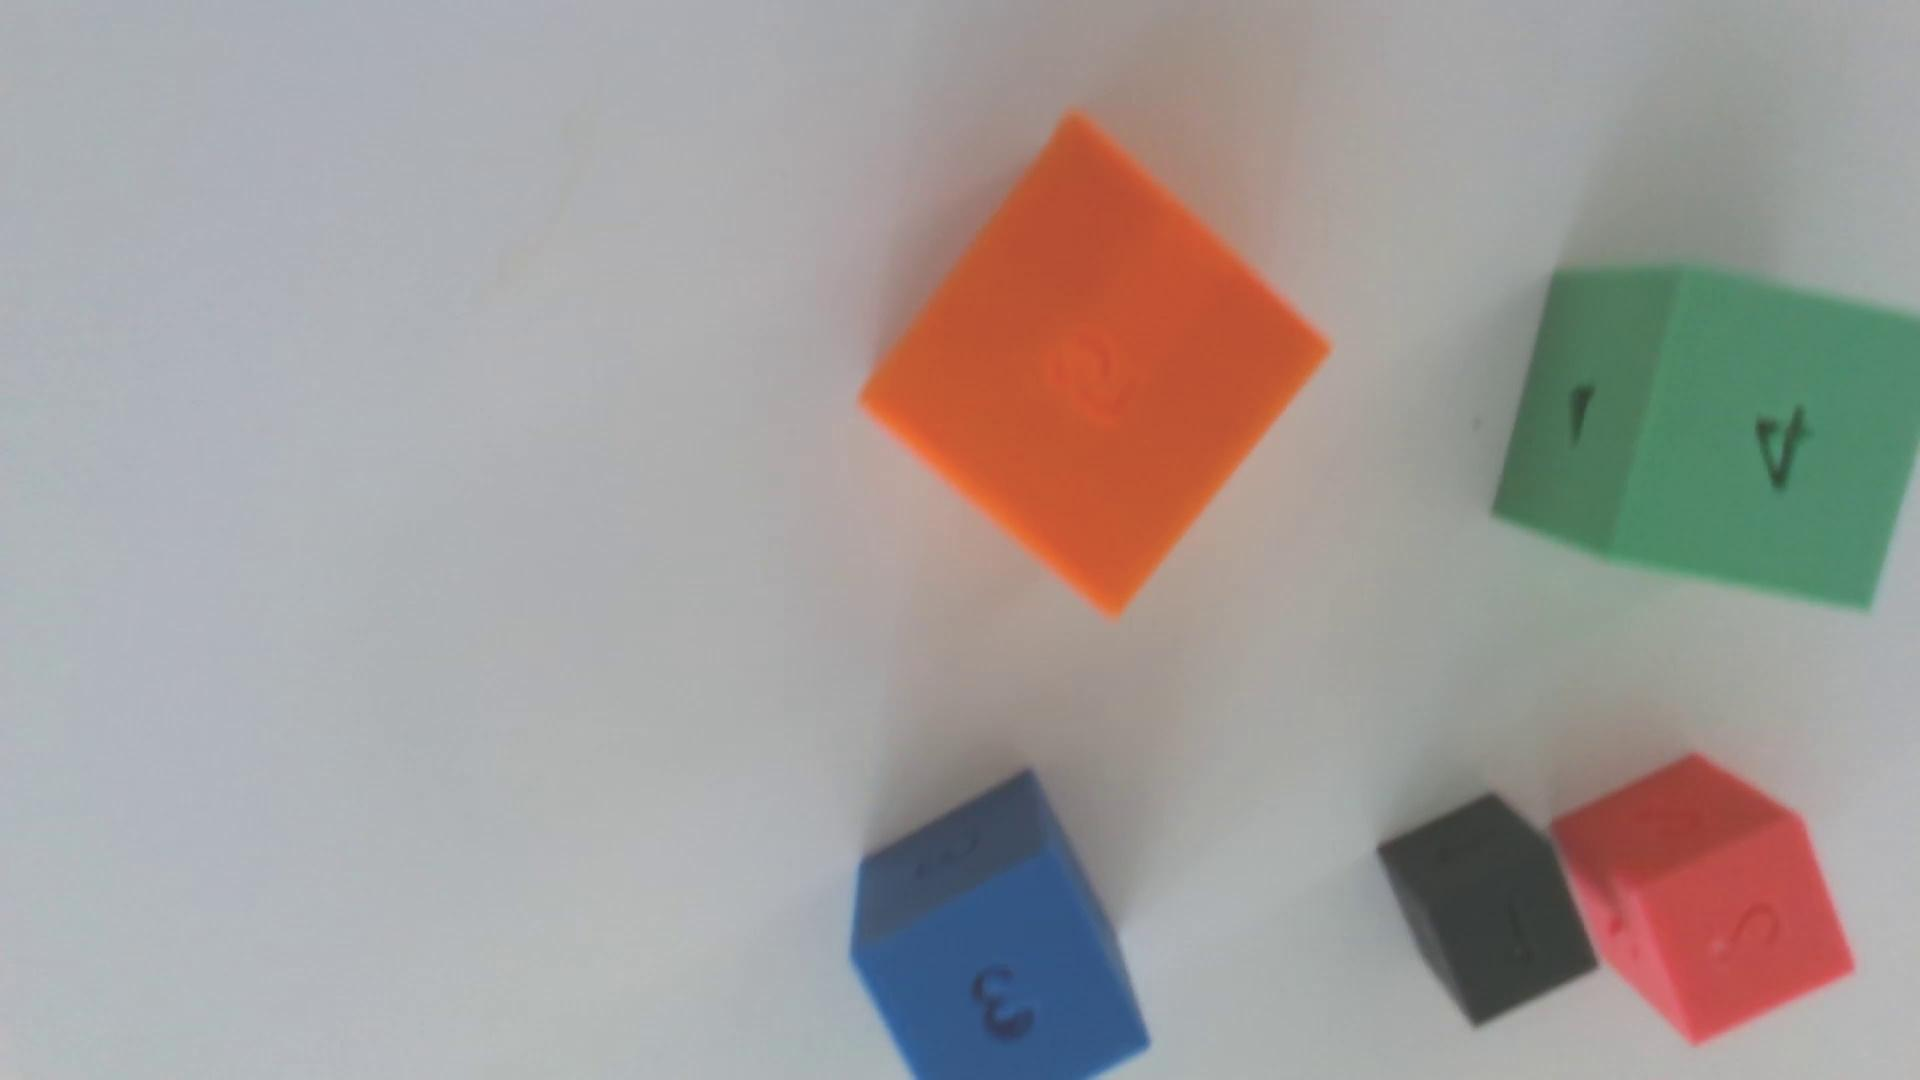black: (1377, 793, 1597, 1025)
blue: (851, 771, 1149, 1080)
green: (1493, 266, 1920, 609)
orange: (861, 116, 1327, 615)
red: (1551, 753, 1854, 1044)
